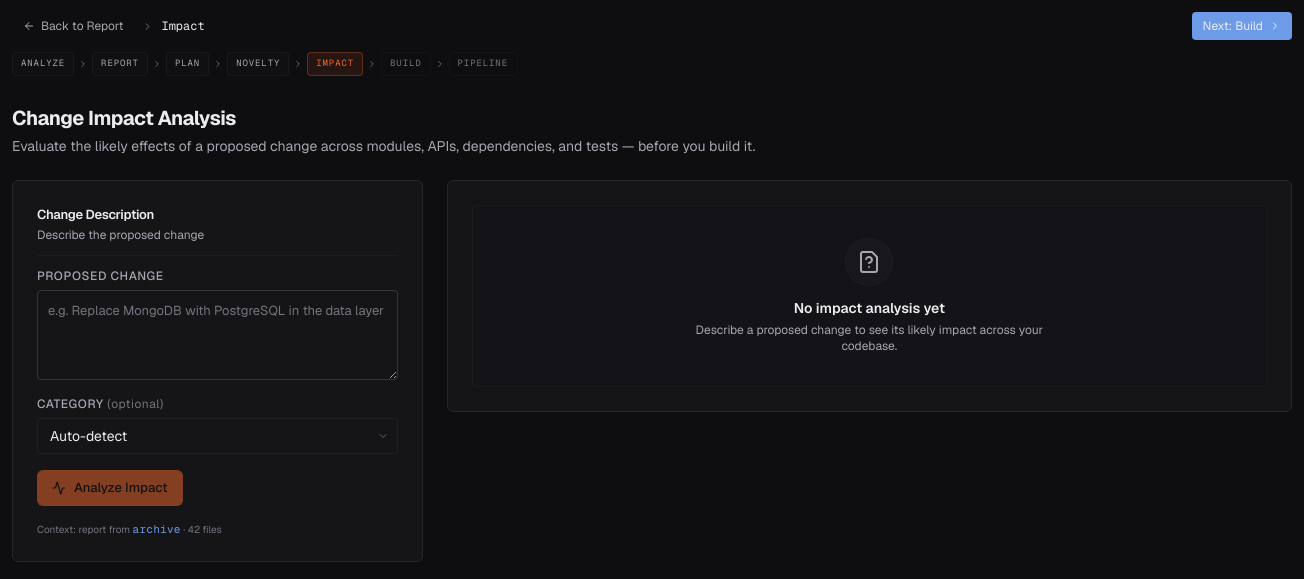
Scenario: Impact workflow › shows a loading state while analyzing
Type "Replace MongoDB with PostgreSQL" into the text box labelled "Proposed Change" at (217, 334), box [37,290,398,380]
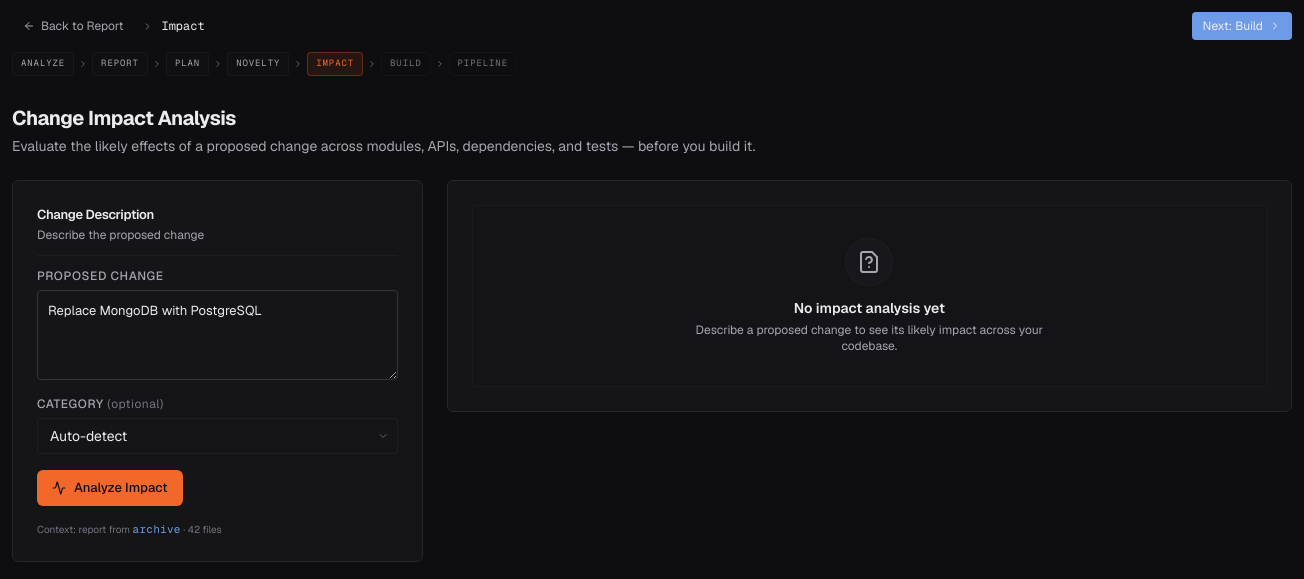
Click the button "Analyze Impact" at (110, 488), box [37,470,182,506]
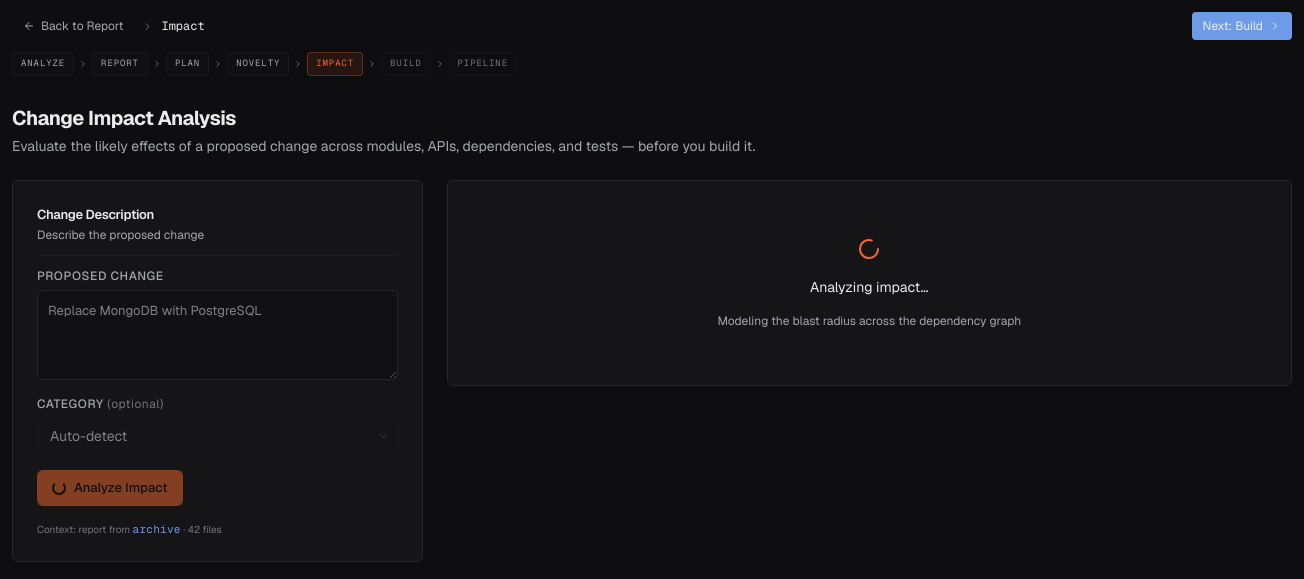
Expected: the text "Analyzing impact…" is shown, [810,276,929,296]
